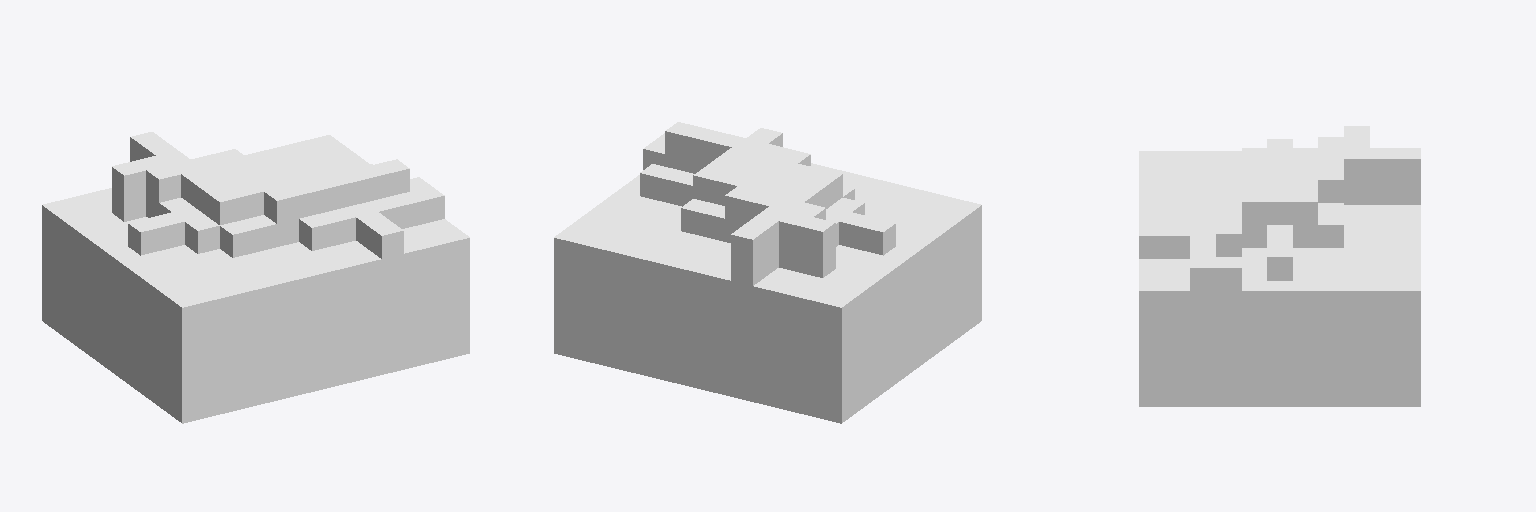
Rendered from shop_item1.obj.
The picture shows the model from 3 angles: view 1: azimuth 30°, elevation 25°; view 2: azimuth 150°, elevation 25°; view 3: azimuth 270°, elevation 25°; orthographic projection.
Visible parts, largest first — view 1: object 1; view 2: object 1; view 3: object 1.
Part boxes in pixels (x1,y1,x2,y2): object 1: (42,132,469,423); object 1: (554,122,981,423); object 1: (1139,126,1420,406).
Bounding box in the file's own units: 1.3 × 0.7 × 1.1.